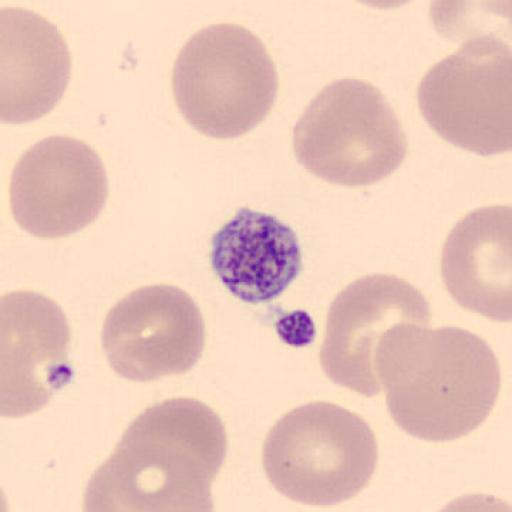Platelet: (205, 206, 308, 306), (271, 306, 319, 350)
RBC: (375, 322, 503, 444), (318, 273, 434, 398), (259, 398, 380, 510), (169, 20, 280, 142), (291, 77, 409, 188), (415, 37, 512, 158), (99, 280, 207, 384), (8, 133, 110, 241), (115, 395, 229, 489), (80, 437, 217, 512), (0, 288, 74, 420), (439, 202, 512, 324), (2, 4, 73, 127), (81, 445, 173, 512), (426, 0, 512, 51), (426, 489, 512, 511), (338, 0, 427, 10)
